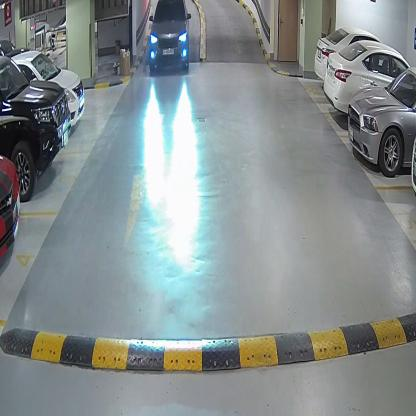np: (162, 46, 174, 57)
